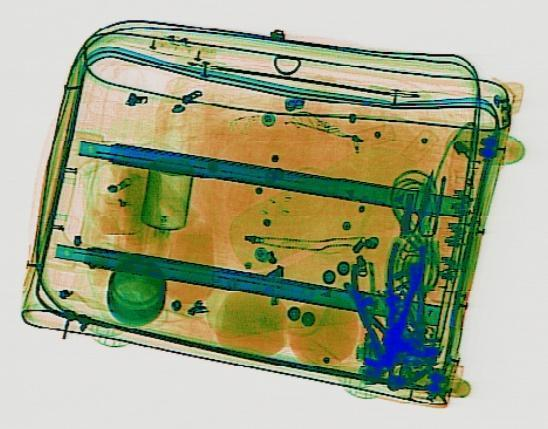Pliers: (372, 240, 430, 342)
